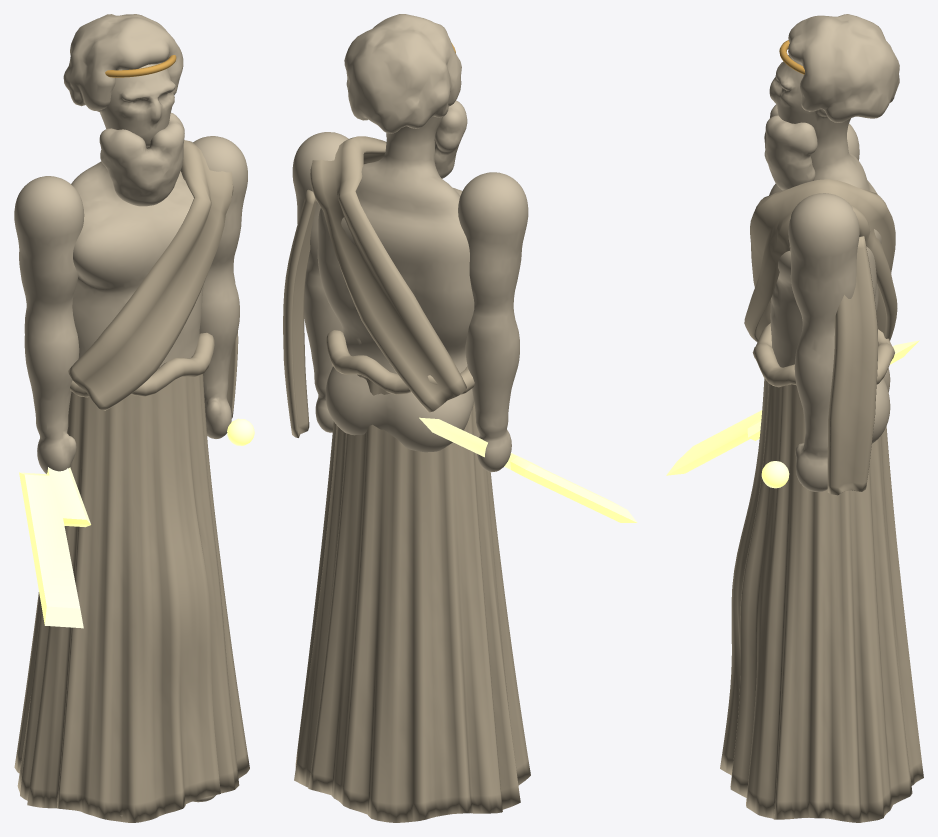
Rendered from zeus.glb.
The picture shows the model from 3 angles, left to right: view 1: azimuth 30°, elevation 25°; view 2: azimuth 150°, elevation 25°; view 3: azimuth 270°, elevation 25°; orthographic projection.
Parts seen in each view (by area): view 1: Himation_7@robe~2, Body_1@body, Drape_9@chest~3, ArmR_3@armR, ArmL_2@armL, Tool_11@RightHand, Hair_4@Head, Beard_5@Head, Roll_8@Hips, Orb_12@LeftHand, Fillet_6@Head, Fall_10@Spine2+LeftShoulder+LeftArm~2; view 2: Himation_7@robe~2, Body_1@body, Drape_9@chest~3, ArmR_3@armR, Hair_4@Head, ArmL_2@armL, Fall_10@Spine2+LeftShoulder+LeftArm~2, Tool_11@RightHand, Roll_8@Hips, Beard_5@Head; view 3: Himation_7@robe~2, ArmL_2@armL, Hair_4@Head, Fall_10@Spine2+LeftShoulder+LeftArm~2, Drape_9@chest~3, Body_1@body, Beard_5@Head, Tool_11@RightHand, Roll_8@Hips, Orb_12@LeftHand.
Part boxes in pixels (x1,y1,x2,y2): Himation_7@robe~2: (14, 374, 249, 822); Body_1@body: (71, 63, 215, 816); Drape_9@chest~3: (68, 140, 233, 410); ArmR_3@armR: (14, 176, 84, 473); ArmL_2@armL: (180, 136, 247, 438); Tool_11@RightHand: (19, 467, 90, 628); Hair_4@Head: (63, 14, 183, 110); Beard_5@Head: (99, 112, 184, 206); Roll_8@Hips: (70, 332, 214, 397); Orb_12@LeftHand: (227, 418, 254, 445); Fillet_6@Head: (105, 55, 176, 77); Fall_10@Spine2+LeftShoulder+LeftArm~2: (227, 332, 238, 418); Himation_7@robe~2: (294, 374, 530, 822); Body_1@body: (317, 116, 474, 452); Drape_9@chest~3: (310, 136, 466, 412); ArmR_3@armR: (458, 172, 528, 472); Hair_4@Head: (344, 14, 461, 133); ArmL_2@armL: (292, 132, 348, 432); Fall_10@Spine2+LeftShoulder+LeftArm~2: (283, 189, 316, 437); Tool_11@RightHand: (419, 417, 637, 522); Roll_8@Hips: (326, 330, 474, 394); Beard_5@Head: (386, 100, 467, 178); Himation_7@robe~2: (720, 378, 923, 822); ArmL_2@armL: (788, 193, 859, 491); Hair_4@Head: (788, 14, 899, 122); Fall_10@Spine2+LeftShoulder+LeftArm~2: (827, 236, 878, 495); Drape_9@chest~3: (744, 179, 897, 342); Body_1@body: (769, 55, 890, 443); Beard_5@Head: (764, 104, 817, 190); Tool_11@RightHand: (666, 340, 919, 475); Roll_8@Hips: (752, 323, 894, 387); Orb_12@LeftHand: (761, 461, 789, 488).
Size of the model in its own units: 0.6721 by 1.83 by 0.5576.
